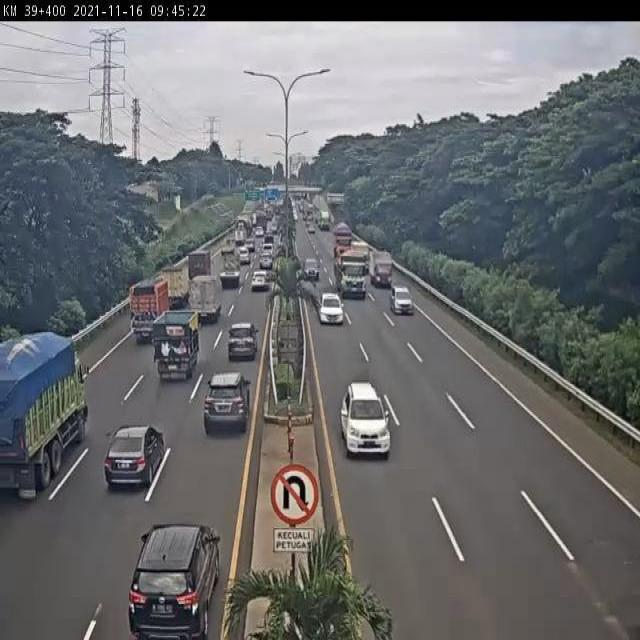car: (122, 534, 218, 640), (101, 421, 166, 487), (339, 378, 392, 458), (198, 380, 247, 443), (225, 324, 256, 365), (390, 282, 415, 314), (319, 292, 343, 325), (250, 271, 271, 293), (304, 256, 320, 281), (234, 244, 251, 265), (258, 252, 273, 271)
small truck: (188, 275, 222, 328), (157, 269, 185, 311)
truck-l-: (0, 334, 92, 490), (333, 244, 366, 299)
truck-m-: (154, 312, 199, 384), (132, 276, 170, 339), (186, 252, 211, 291), (217, 252, 242, 288)
